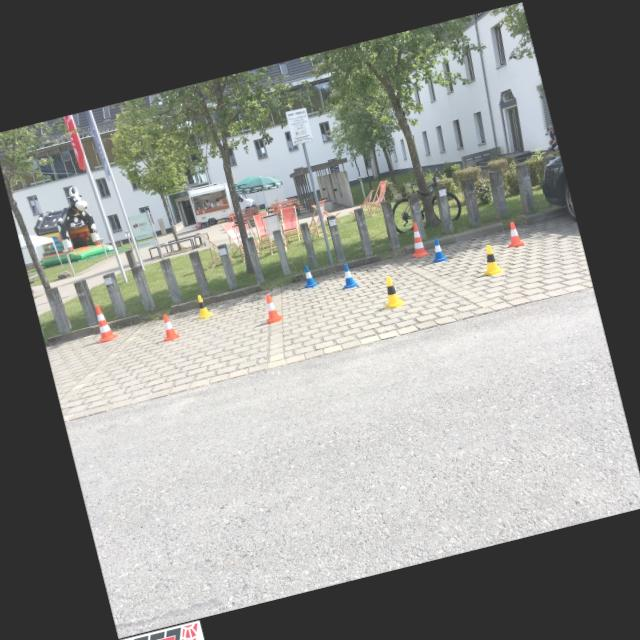blue_cone: (338, 262, 359, 290), (428, 236, 448, 264), (300, 264, 318, 288)
large_orange_cone: (88, 302, 118, 342), (404, 220, 431, 258)
orange_cone: (258, 292, 284, 324), (158, 311, 180, 341), (504, 220, 524, 248)
yellow_cone: (476, 242, 505, 278), (378, 274, 406, 310), (193, 292, 213, 318)
